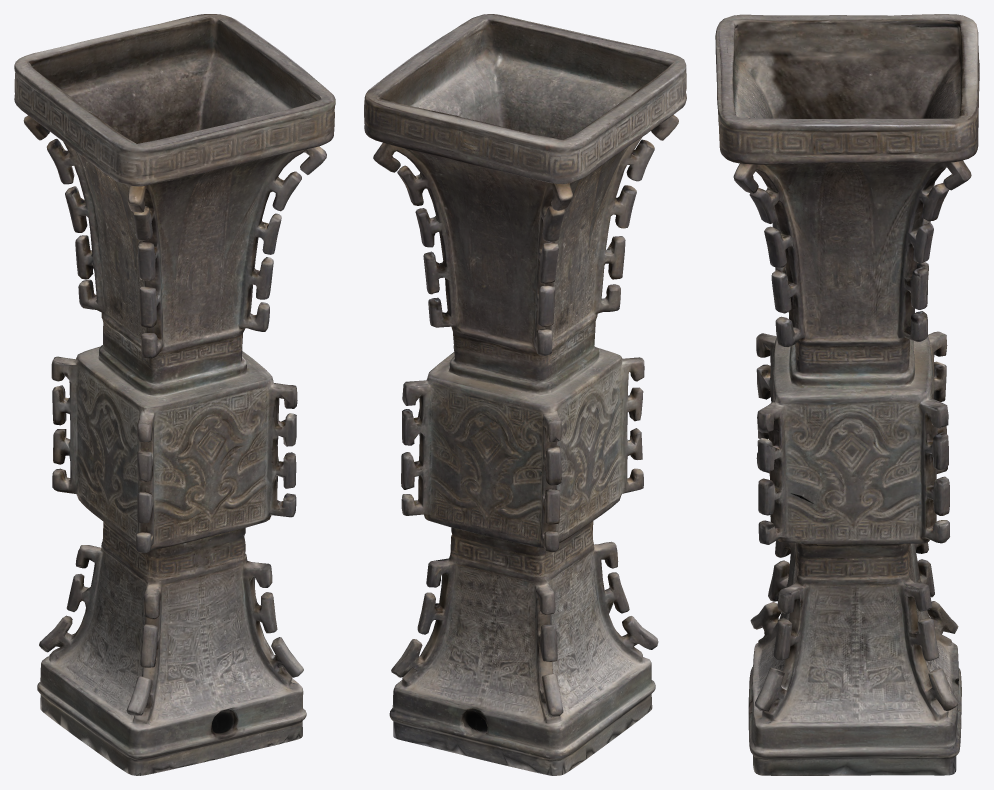
File: 清饕餮纹铜觚.glb
3 renders of one model, left to right at view 1: azimuth 30°, elevation 25°; view 2: azimuth 150°, elevation 25°; view 3: azimuth 270°, elevation 25°, orthographic. The views are drawn at different scales.
Parts seen in each view (by area): view 1: defaultobject; view 2: defaultobject; view 3: defaultobject.
Boxes of the visible parts, x1=… form: defaultobject: x1=14, y1=14, x2=335, y2=775; defaultobject: x1=364, y1=14, x2=686, y2=775; defaultobject: x1=715, y1=14, x2=979, y2=775.
Bounding box in the file's own units: 533 × 1491 × 536.
1 material, 1 textured.
